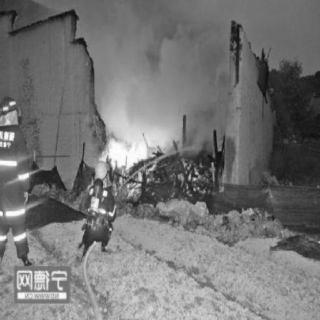Fire: (91, 127, 227, 201)
Smoke: (75, 0, 241, 123)
other: (87, 206, 117, 220), (4, 206, 26, 220), (2, 98, 18, 112), (1, 157, 18, 169), (2, 131, 16, 145), (14, 230, 26, 242), (18, 171, 30, 181), (2, 233, 8, 241)
